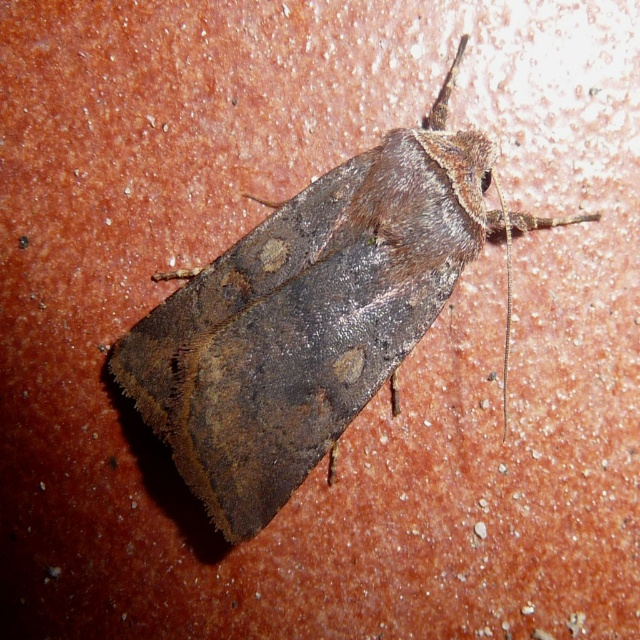Moths and butterflies: (109, 30, 606, 550)
